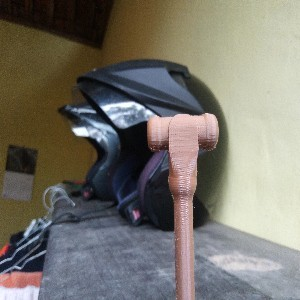palu: (147, 111, 220, 300)
